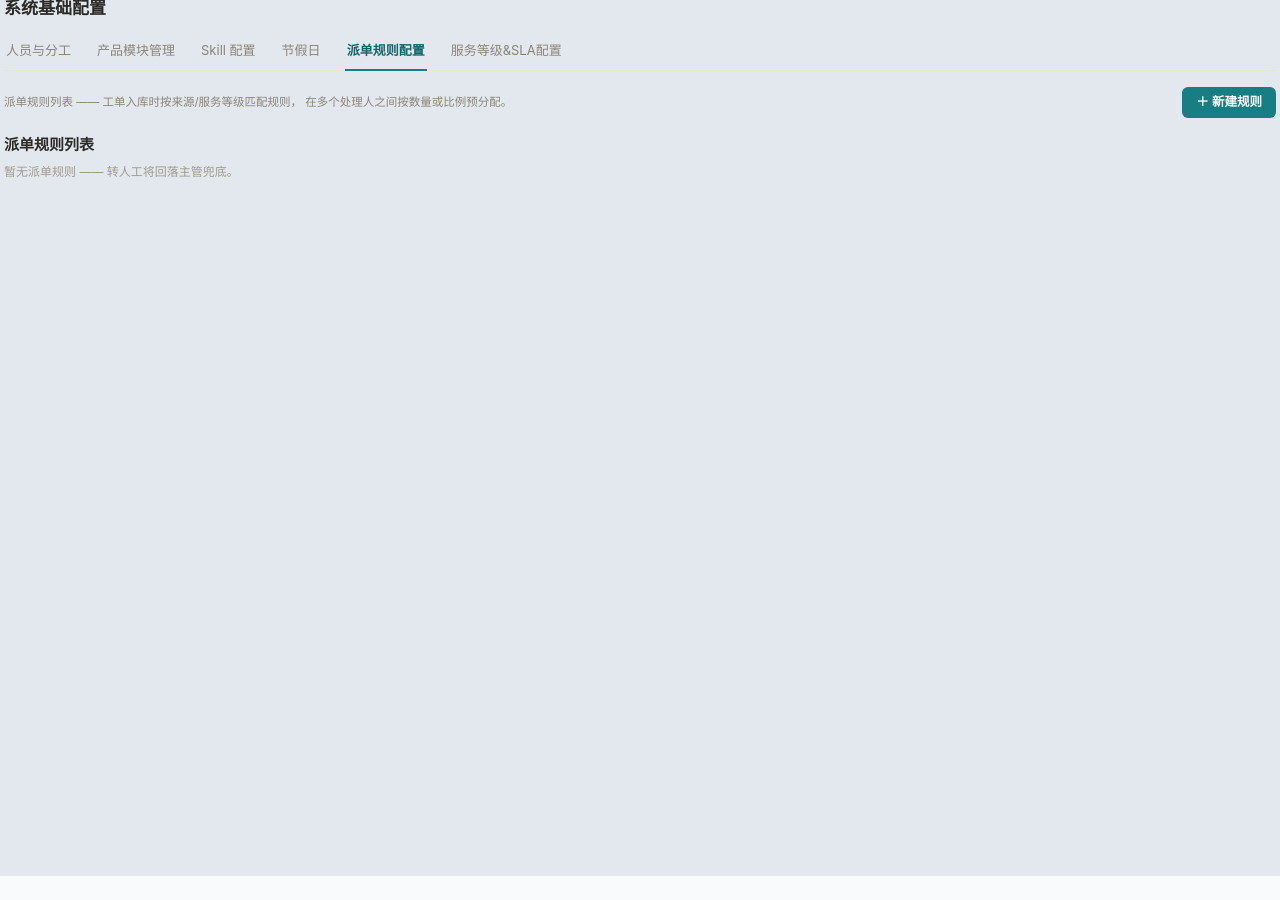
Test: DispatchRulesPage › 新建规则弹窗内可直接添加人员
Step 1. Click the button "＋ 新建规则" → x=1229, y=102, box [1182,87,1276,118]
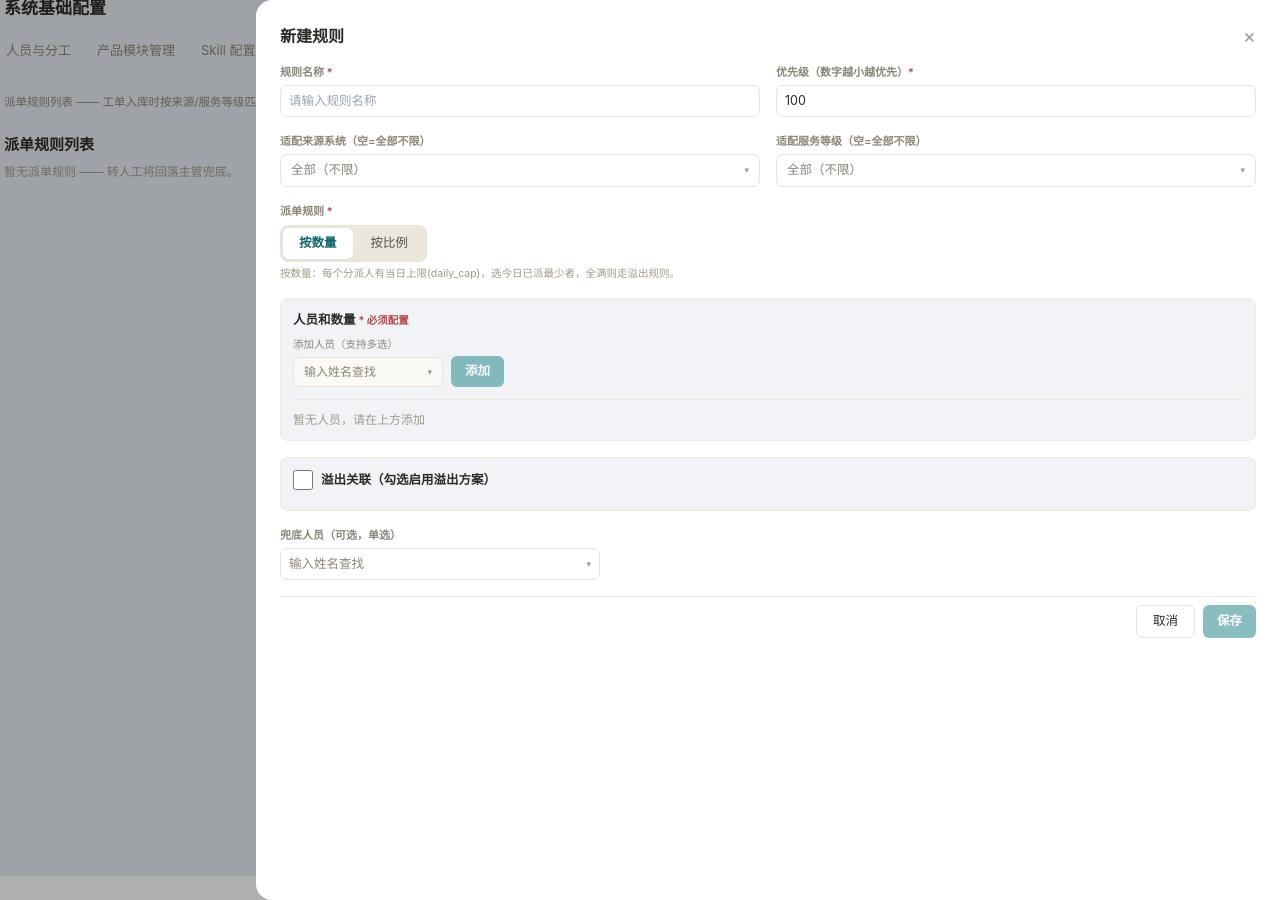
expect the text "人员和数量" is shown: met, box [293,312,358,326]
expect the button "添加" is shown: met, box [451,356,504,387]
